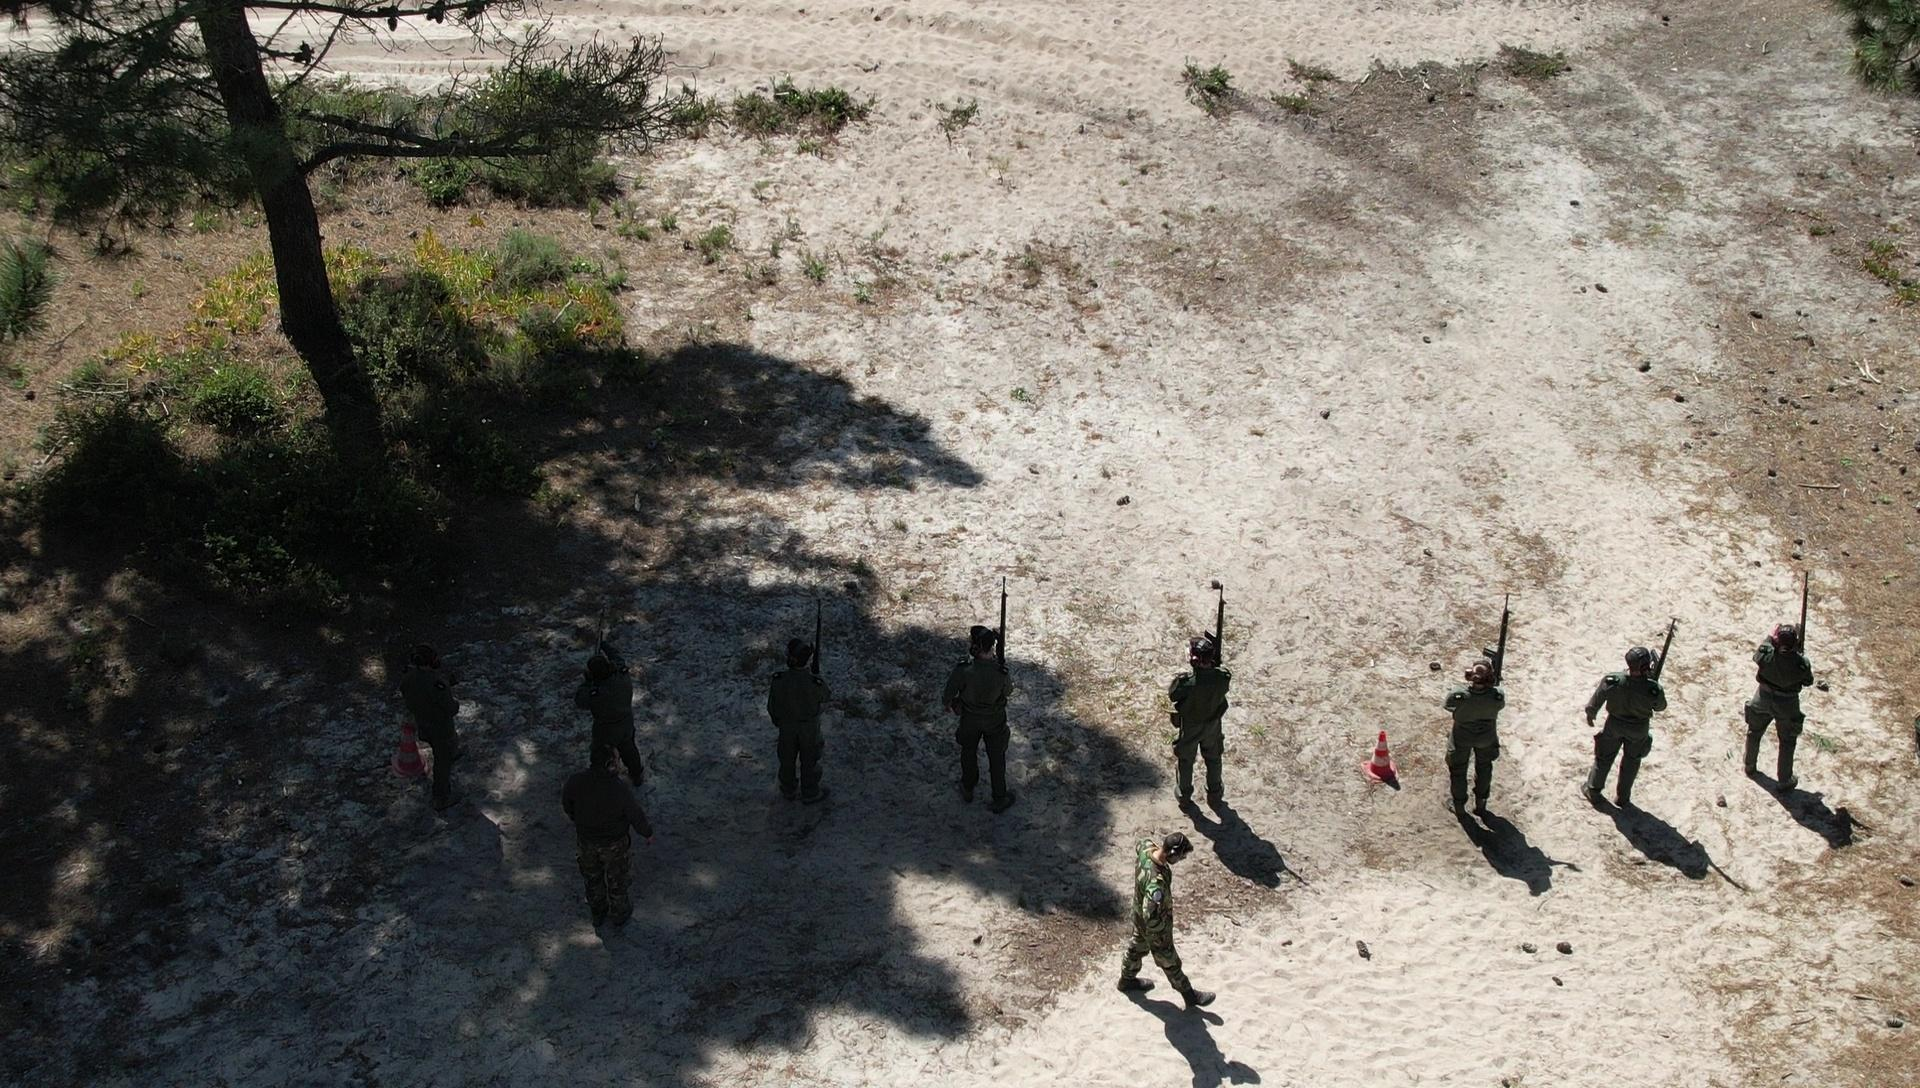Soldier: (1716, 575, 1847, 815), (1088, 835, 1229, 1023), (1154, 595, 1254, 851), (942, 572, 1044, 820), (1571, 609, 1677, 843), (547, 732, 669, 928), (754, 601, 848, 845), (372, 621, 483, 826), (1428, 636, 1524, 853), (560, 636, 658, 820)
